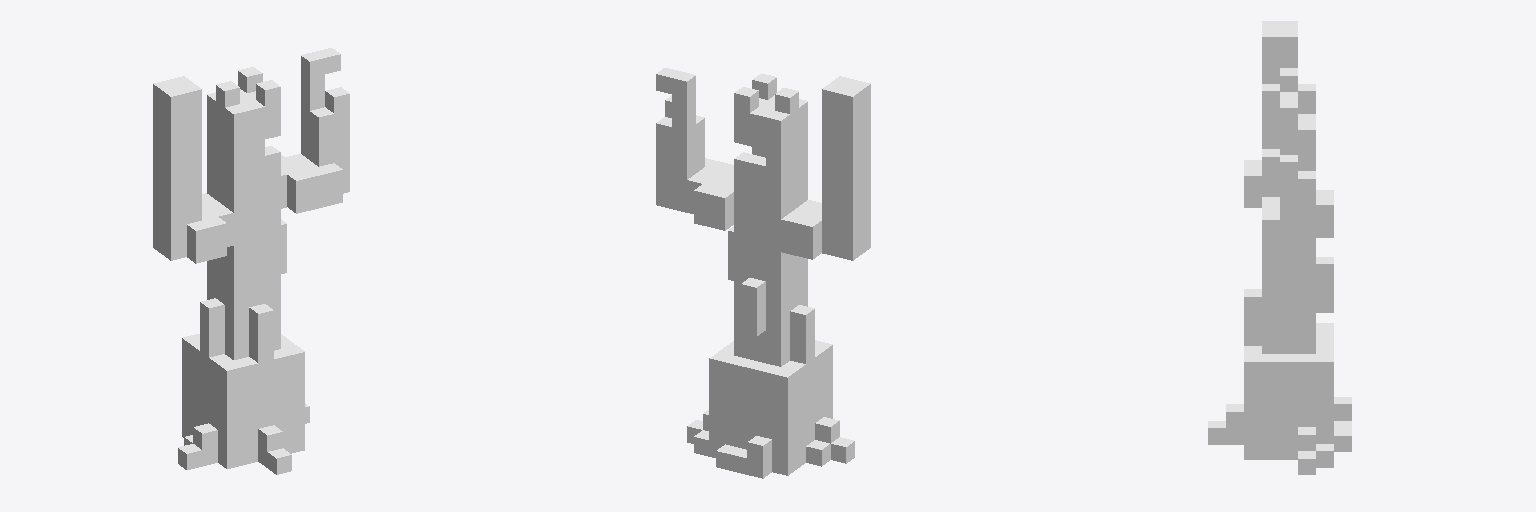
Rendered from map_v1-9.obj.
3 views of the same model, side by side, from view 1: azimuth 30°, elevation 25°; view 2: azimuth 150°, elevation 25°; view 3: azimuth 270°, elevation 25° (orthographic).
Visible parts, largest first — view 1: object 1; view 2: object 1; view 3: object 1.
Part boxes in pixels (left/top/right/bottom): object 1: left=153, top=48, right=349, bottom=474; object 1: left=656, top=68, right=870, bottom=478; object 1: left=1208, top=21, right=1351, bottom=474.
Bounding box in the file's own units: 2.4 × 4.6 × 1.6.